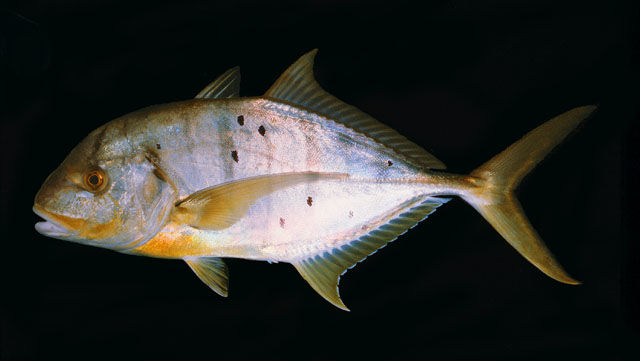fish: (32, 48, 598, 312)
